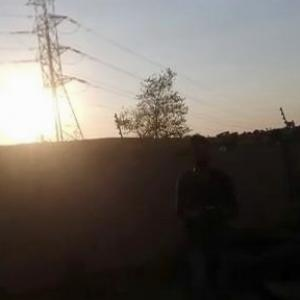follow: (158, 122, 238, 299)
